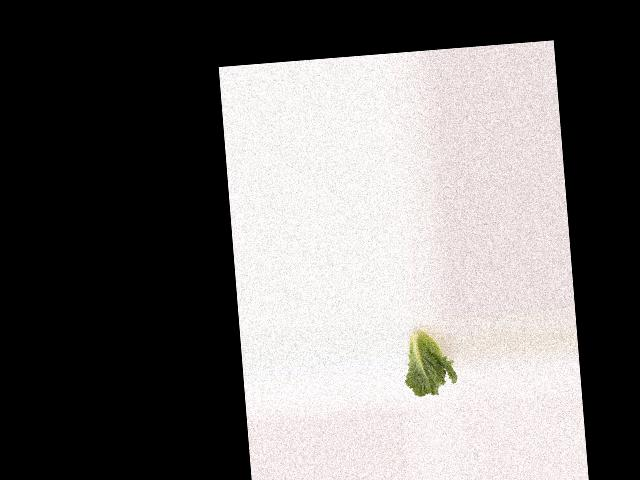lettuce: (399, 319, 456, 400)
